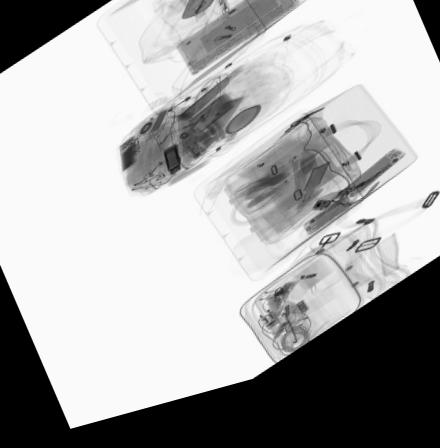Lighter: (287, 170, 304, 194)
